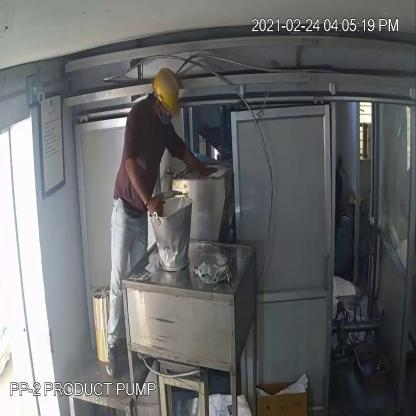helmet: (150, 65, 184, 123)
